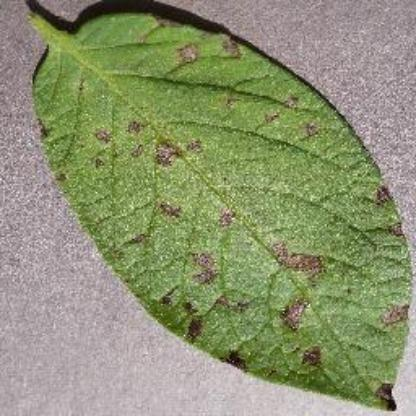Early-Blight: (25, 6, 405, 408)
